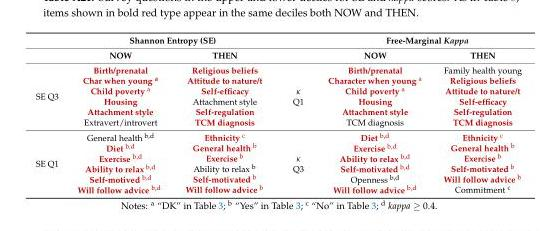table: (34, 34, 521, 194)
table column: (315, 34, 431, 194), (67, 34, 172, 194), (172, 34, 277, 194), (431, 34, 521, 194), (277, 34, 315, 194), (34, 34, 67, 194)
table column header: (34, 34, 521, 62)
table row: (34, 62, 521, 128), (34, 128, 521, 194), (34, 47, 521, 62), (34, 34, 521, 47)
table spanning cell: (67, 34, 277, 47), (315, 34, 521, 47)
